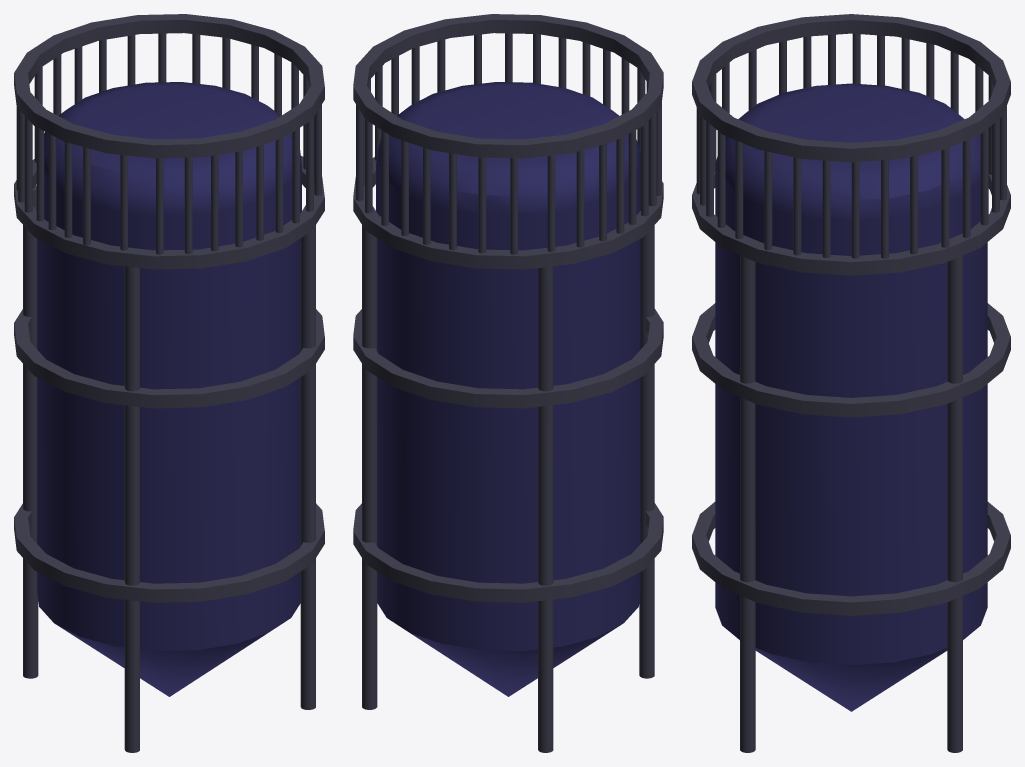
The model's file is siloblockout.fbx.
3 renders of one model, left to right at view 1: azimuth 30°, elevation 25°; view 2: azimuth 150°, elevation 25°; view 3: azimuth 270°, elevation 25°, orthographic. The views are drawn at different scales.
Visible parts, largest first — view 1: group6_pPipe1; view 2: group6_pPipe1; view 3: group6_pPipe1.
Boxes of the visible parts, left/top/right/bottom form: group6_pPipe1: left=14, top=14, right=324, bottom=752; group6_pPipe1: left=353, top=14, right=663, bottom=752; group6_pPipe1: left=692, top=14, right=1010, bottom=752.
Bounding box in the file's own units: 4.23 × 9.22 × 4.23.
